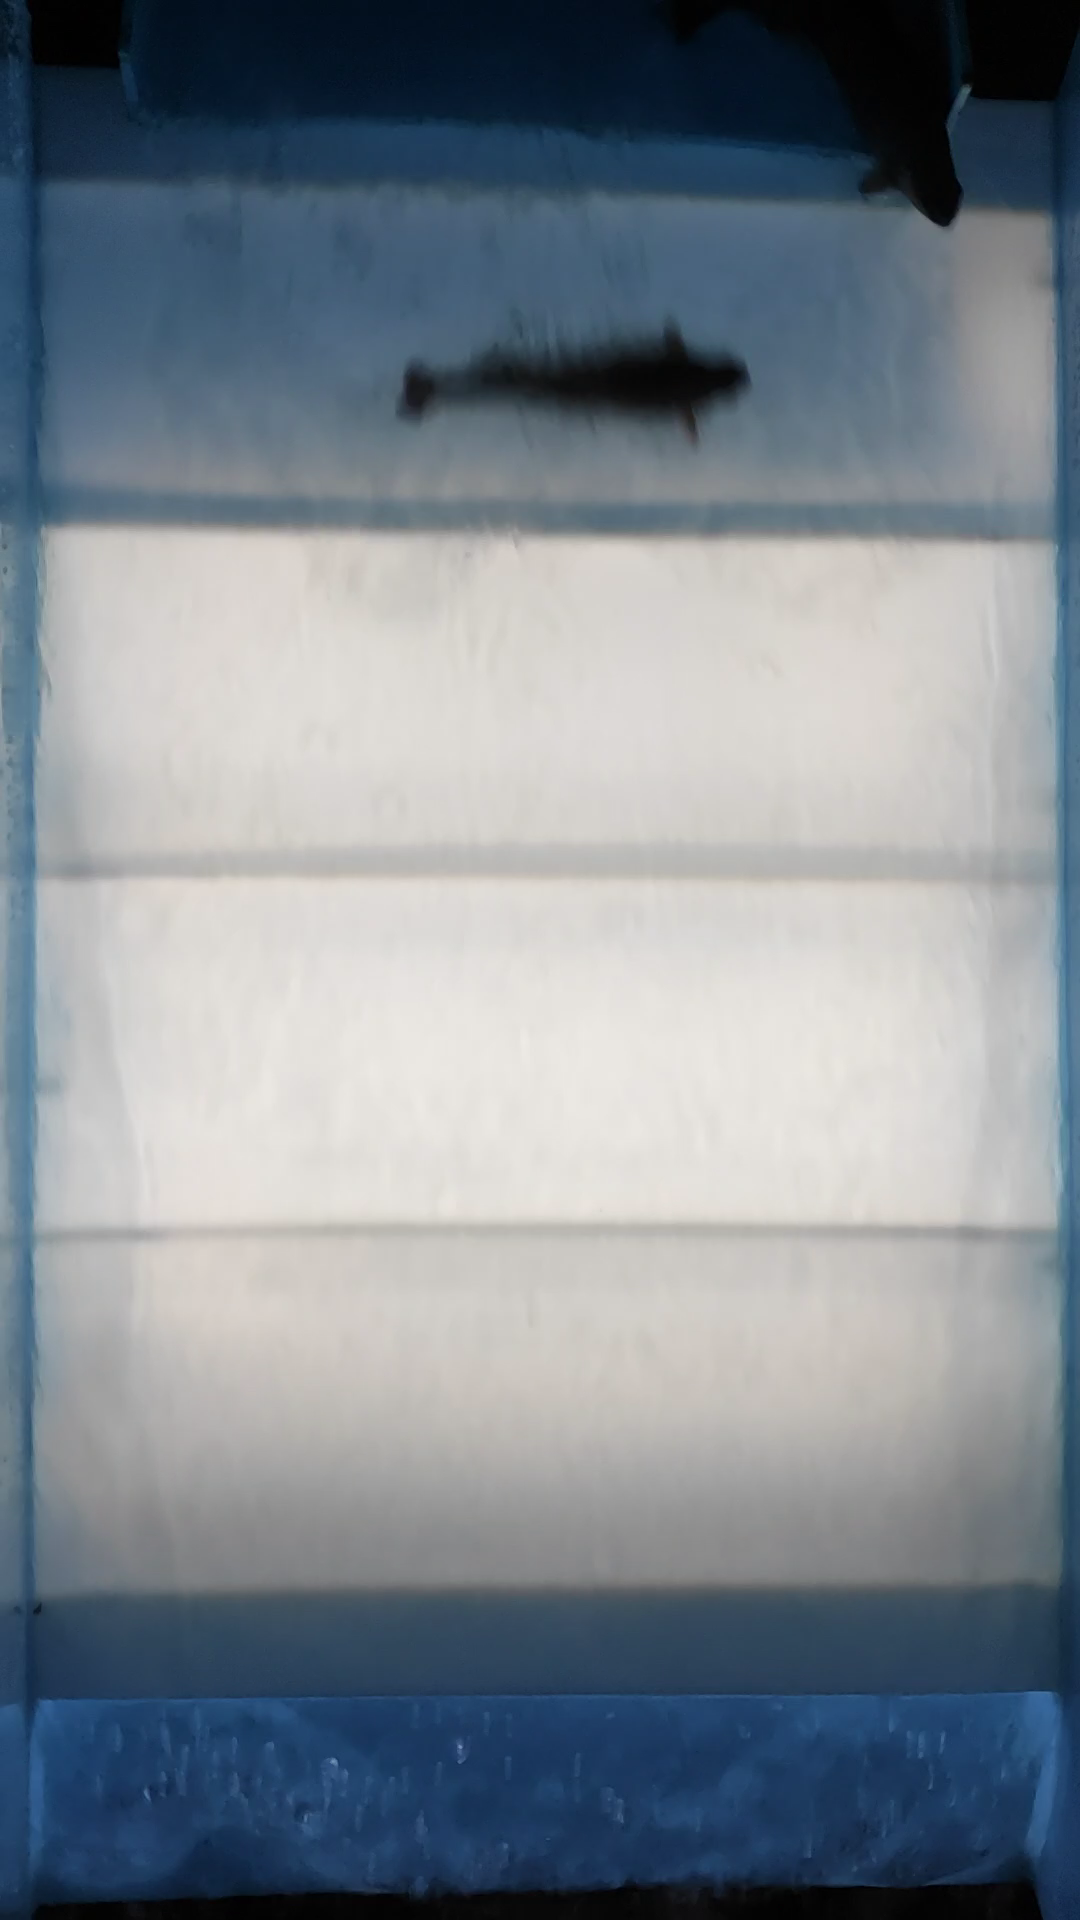fish: (386, 313, 748, 454)
